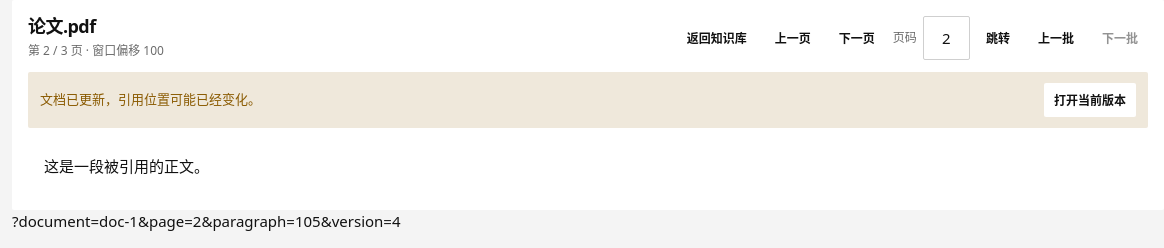
Scenario: DocumentReader › does not focus a stale citation after the document version changed
Expected: the text "文档已更新，引用位置可能已经变化。" is shown, [40, 90, 261, 110]
Click the button "打开当前版本".
click(1090, 100)  # box [1044, 83, 1136, 117]
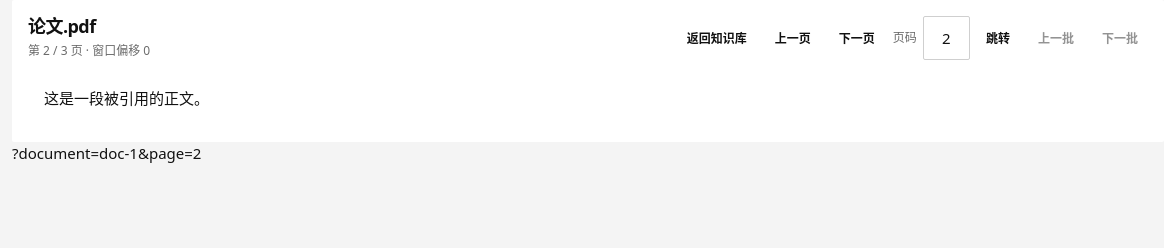
Now the text with test id "location" reads "?document=doc-1&page=2", box [12, 142, 201, 162]
Now the text with test id "location" no longer shows "version"
Now the text with test id "location" no longer shows "paragraph"
